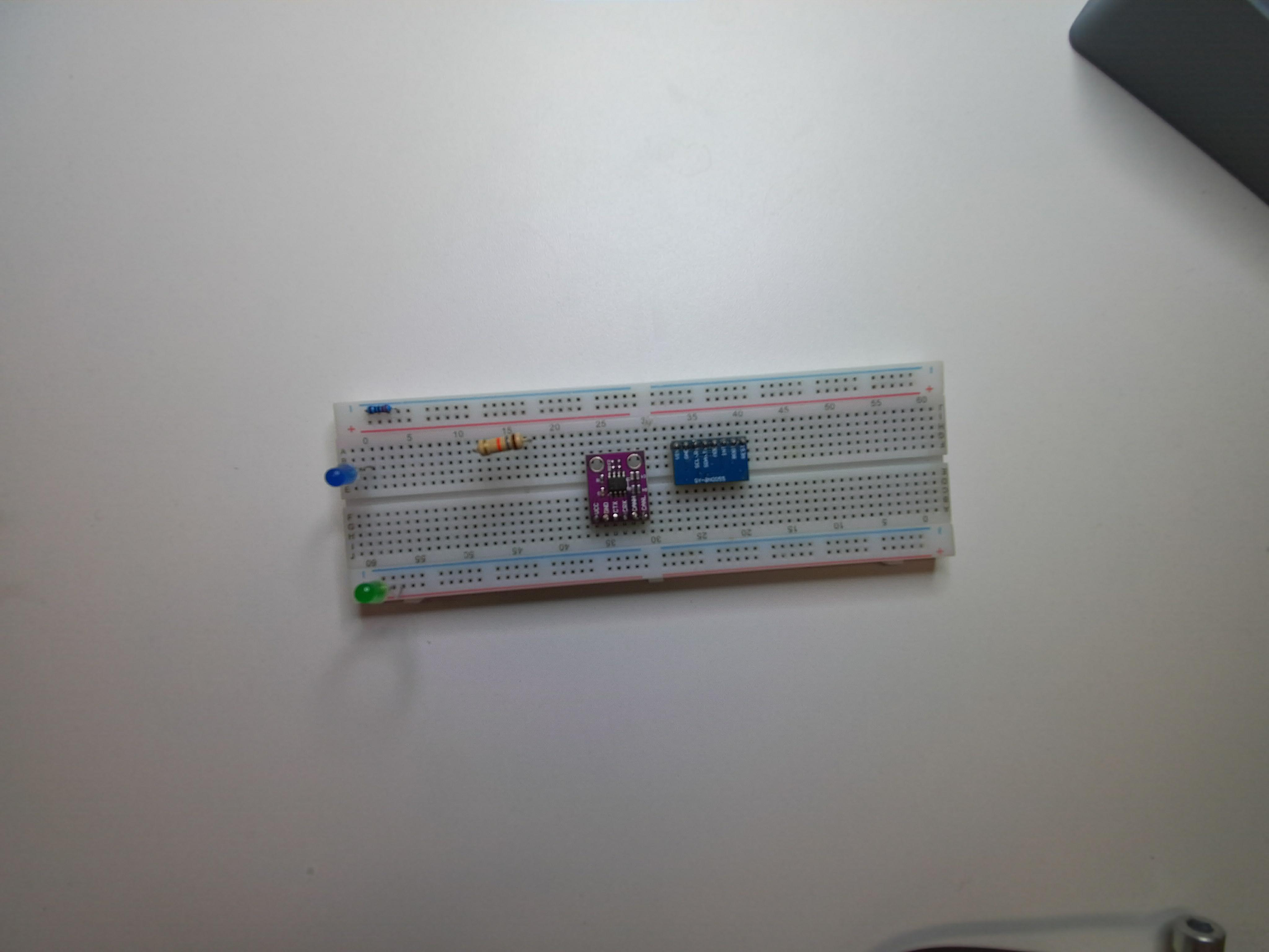base: (326, 355, 957, 612)
blue-board: (671, 438, 750, 489)
blue-led: (325, 461, 357, 487)
green-led: (353, 578, 389, 605)
purple-board: (584, 448, 652, 530)
resistor-big: (476, 429, 528, 456)
resistor-small: (364, 400, 391, 413)
